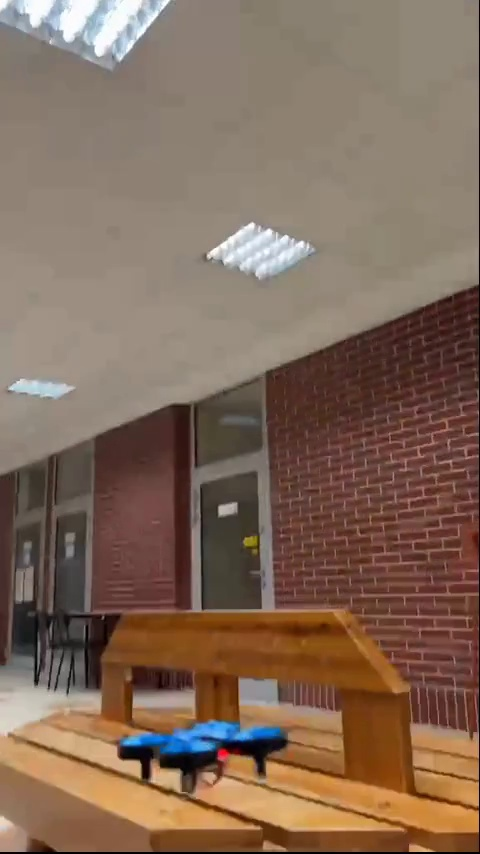drone: (116, 722, 283, 785)
